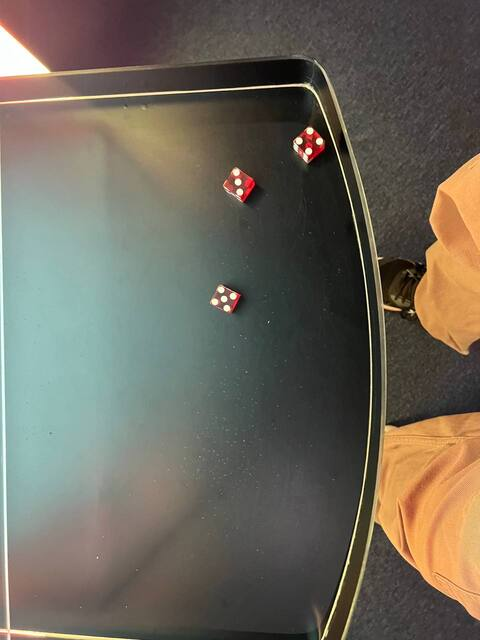five: (207, 281, 244, 316)
four: (292, 124, 329, 159)
three: (222, 165, 257, 200)
